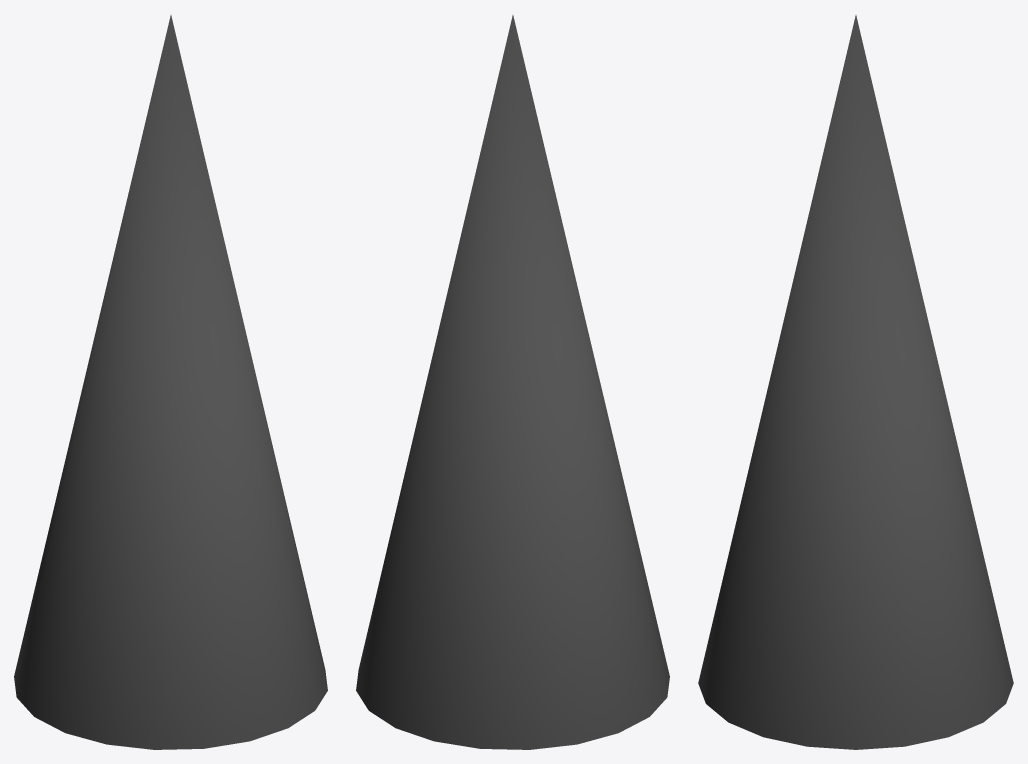
The model's file is rock.obj.
3 views of the same model, side by side, from view 1: azimuth 30°, elevation 25°; view 2: azimuth 150°, elevation 25°; view 3: azimuth 270°, elevation 25° (orthographic).
Bounding box in the file's own units: 73.99 × 173 × 73.99.
